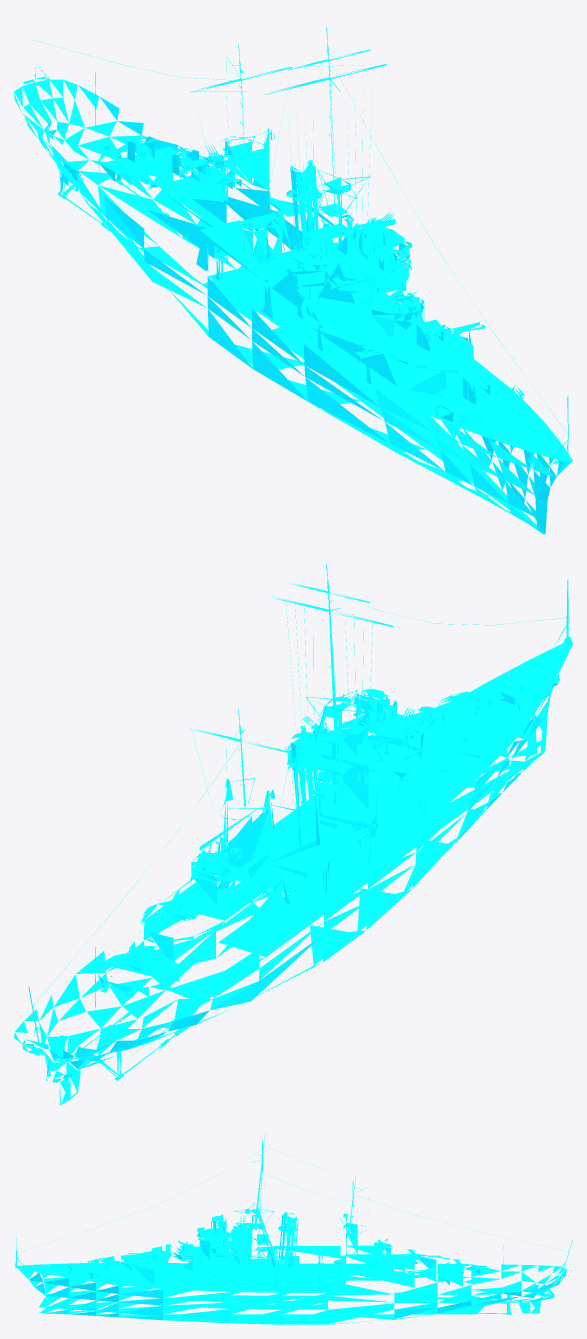
The model's file is Erie.glb.
The picture shows the model from 3 angles, top to bottom: view 1: azimuth 30°, elevation 25°; view 2: azimuth 150°, elevation 25°; view 3: azimuth 270°, elevation 25°; orthographic projection. The views are drawn at different scales.
Bounding box in the file's own units: 0.9086 × 2.4 × 6.76.
